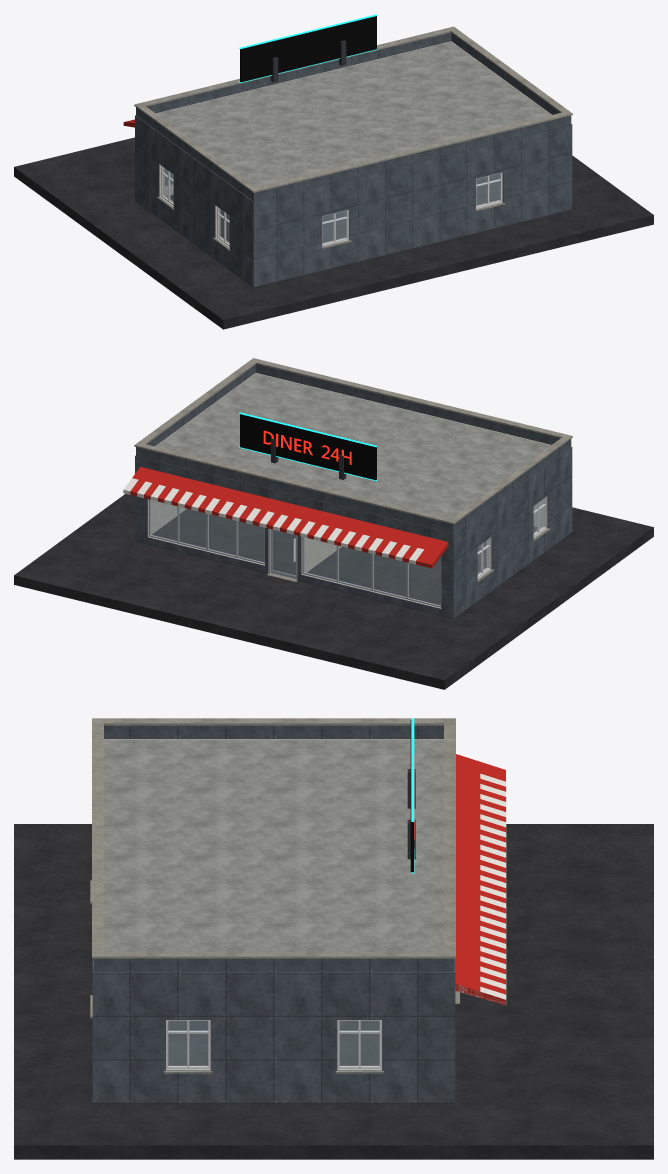
File: b_american_diner.gltf
The picture shows the model from 3 angles, top to bottom: view 1: azimuth 30°, elevation 25°; view 2: azimuth 150°, elevation 25°; view 3: azimuth 270°, elevation 25°; orthographic projection. The views are drawn at different scales.
Parts seen in each view (by area): view 1: S_american_diner; view 2: S_american_diner, D_american_diner_F1_S2_Door0; view 3: S_american_diner.
Boxes of the visible parts, x1,y1,x2,y2 form: S_american_diner: (14, 14, 653, 329); S_american_diner: (14, 358, 653, 689); D_american_diner_F1_S2_Door0: (271, 529, 296, 578); S_american_diner: (14, 718, 653, 1159).
Bounding box in the file's own units: 19 × 6.33 × 16.
Materials: 20 (9 with a texture image).
